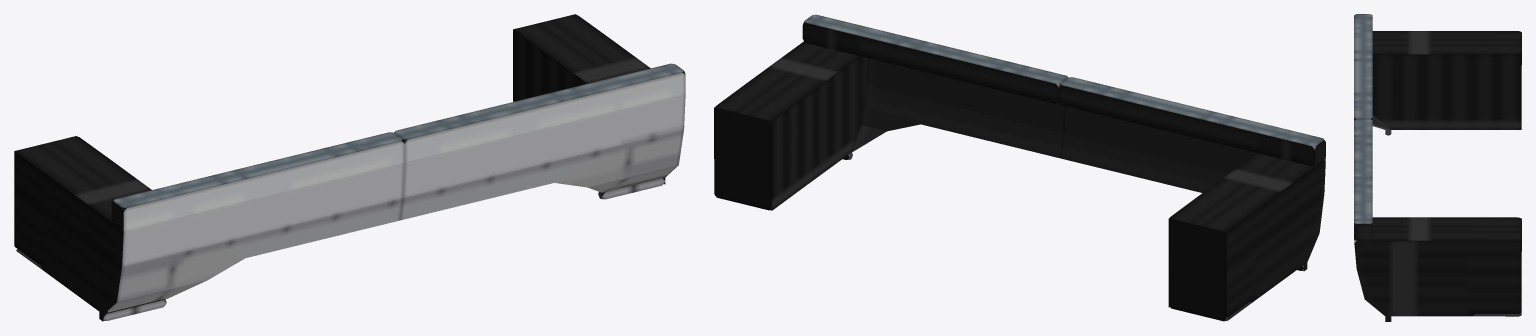
File: crh2a_skirt_forbogey.obj
3 renders of one model, left to right at view 1: azimuth 30°, elevation 25°; view 2: azimuth 150°, elevation 25°; view 3: azimuth 270°, elevation 25°, orthographic. The views are drawn at different scales.
Parts seen in each view (by area): view 1: 裙板-转向架区; view 2: 裙板-转向架区; view 3: 裙板-转向架区.
Part boxes in pixels (x1,y1,x2,y2): 裙板-转向架区: (14,14,685,321); 裙板-转向架区: (714,14,1325,321); 裙板-转向架区: (1354,14,1521,321).
Bounding box in the file's own units: 5 × 1.09 × 1.69.
